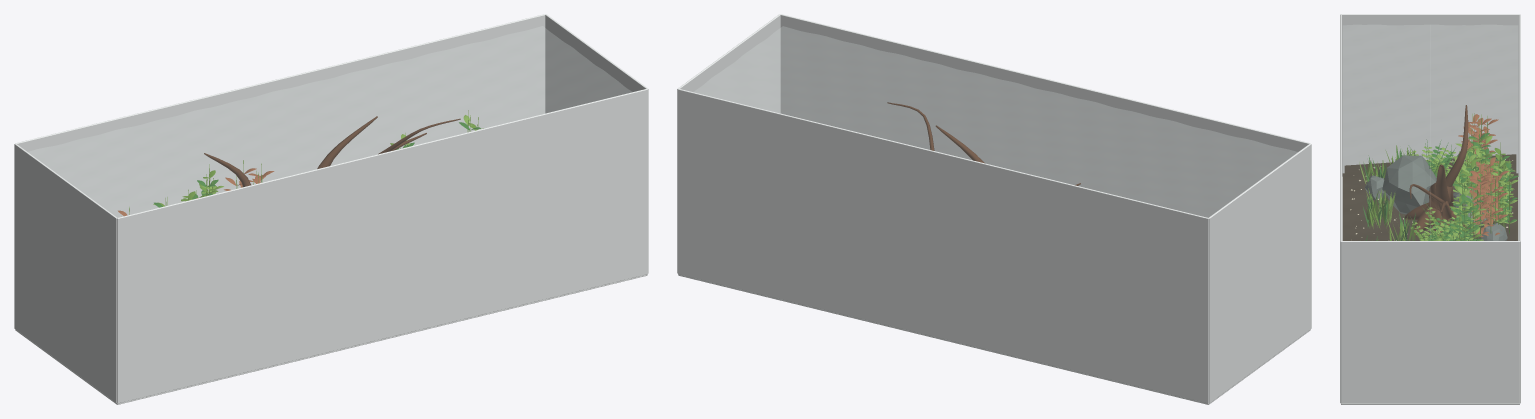
Rendered from aquarium.glb.
The picture shows the model from 3 angles, left to right: view 1: azimuth 30°, elevation 25°; view 2: azimuth 150°, elevation 25°; view 3: azimuth 270°, elevation 25°; orthographic projection. The views are drawn at different scales.
Parts seen in each view (by area): view 1: tank.glass.front, tank.glass.back, water.surface, tank.glass.left, tank.glass.right, tank.glass.base, hardscape.wood.angular; view 2: tank.glass.back, tank.glass.front, water.surface, tank.glass.left, tank.glass.right, tank.glass.base; view 3: water.surface, tank.glass.right, tank.glass.left, bed.left, hardscape.stone.00, hardscape.wood.angular, plants.stem.020, plants.stem.021, plants.stem.016, plants.stem.015, tank.glass.back, tank.glass.front (+21 smaller).
Part boxes in pixels (x1,y1,x2,y2): tank.glass.front: (117,89,647,403); tank.glass.back: (15,14,545,217); water.surface: (29,26,631,217); tank.glass.left: (14,143,117,403); tank.glass.right: (545,14,648,273); tank.glass.base: (15,274,647,404); hardscape.wood.angular: (204,116,460,187); tank.glass.back: (678,89,1208,403); tank.glass.front: (780,14,1310,217); water.surface: (695,26,1296,217); tank.glass.left: (1208,143,1311,403); tank.glass.right: (677,14,780,273); tank.glass.base: (678,274,1310,404); water.surface: (1343,25,1517,240); tank.glass.right: (1341,241,1519,403); tank.glass.left: (1341,14,1519,176); bed.left: (1344,154,1516,240); hardscape.stone.00: (1382,155,1436,214); hardscape.wood.angular: (1404,105,1469,236); plants.stem.020: (1468,154,1508,238); plants.stem.021: (1449,186,1486,240); plants.stem.016: (1491,142,1518,233); plants.stem.015: (1458,113,1498,170); tank.glass.back: (1519,14,1520,403); tank.glass.front: (1340,14,1341,403).
Size of the model in its own units: 0.903 by 0.303 by 0.303.
